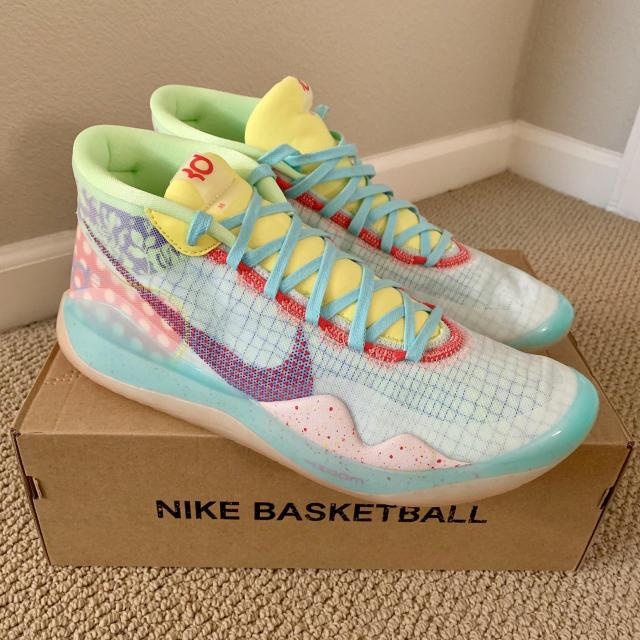shoe: (54, 121, 600, 509), (149, 75, 579, 340)
